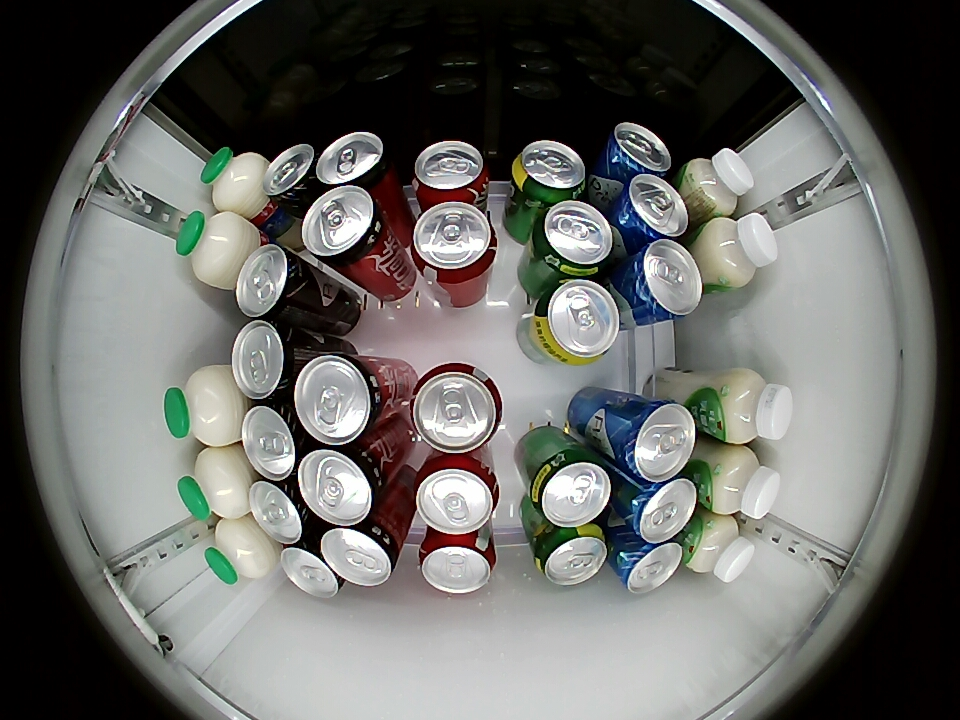kele: (409, 363, 504, 454), (411, 201, 497, 284), (414, 455, 499, 535), (412, 140, 489, 204), (418, 533, 496, 595)
lingdukele: (293, 353, 391, 445), (301, 186, 393, 269), (298, 443, 389, 525), (321, 514, 404, 587), (316, 132, 395, 194)
liziyuan: (175, 210, 260, 289), (164, 365, 245, 447), (178, 447, 252, 523), (200, 146, 269, 220), (205, 517, 277, 586)
qingdaowangzi-1: (235, 243, 312, 322), (231, 320, 304, 399), (241, 401, 306, 480), (249, 477, 315, 544), (280, 538, 345, 598), (263, 144, 320, 209)
qingdaowangzi-2: (610, 400, 698, 482), (623, 239, 703, 322), (619, 475, 698, 543), (614, 174, 689, 244), (601, 122, 673, 180), (614, 536, 683, 594)
xuebi2: (530, 279, 622, 365), (526, 446, 612, 527), (528, 200, 615, 278), (511, 140, 588, 203), (531, 524, 608, 586)
yousuanru: (699, 213, 778, 289), (715, 369, 793, 444), (705, 445, 780, 520), (682, 148, 754, 218), (685, 514, 755, 582)
